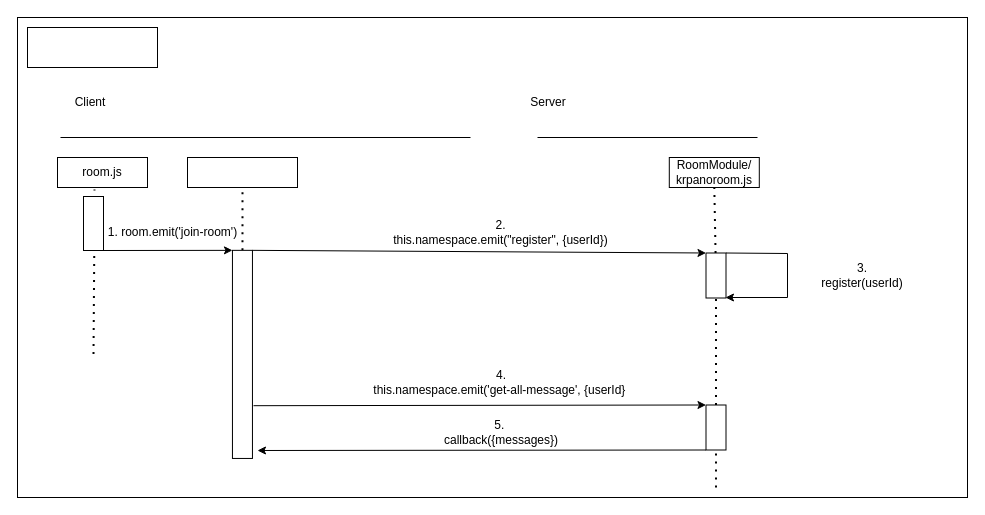
Image size: 985x515. Some labels were removed from this diagram. Each missing label, with the centre of its shape:
Join-room : chatroom module: (92,47)
RoomModule/ ChatroomClient: (242,172)
